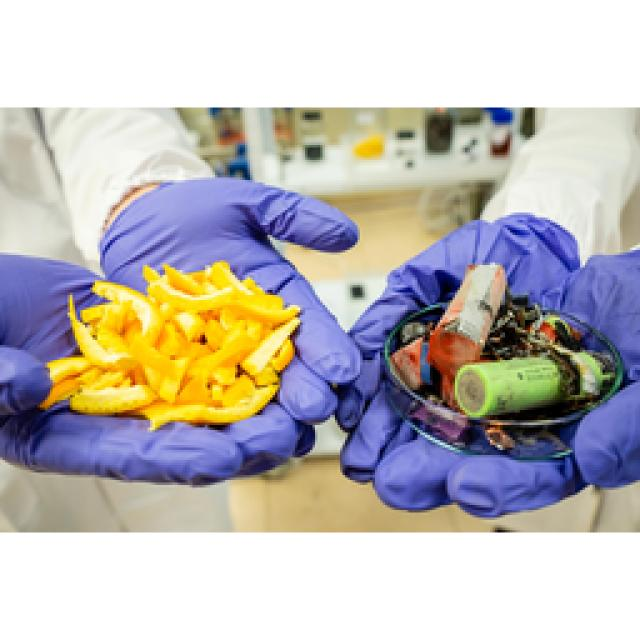food_waste: (370, 262, 622, 458), (40, 260, 298, 428)
